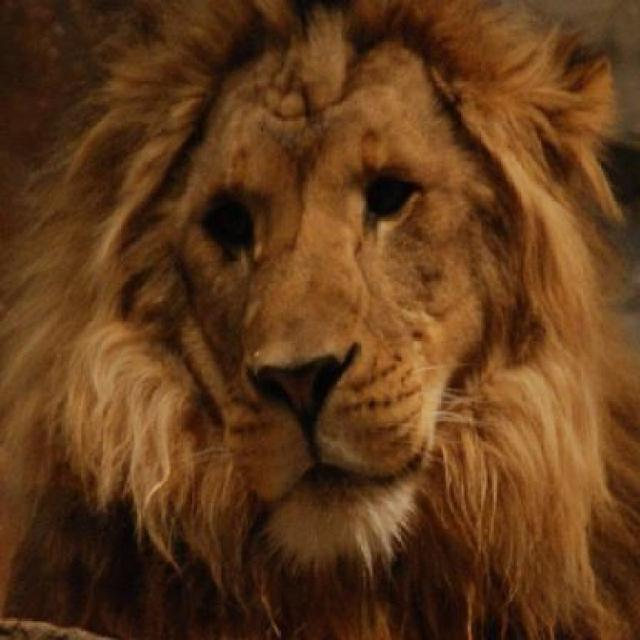Lion: (14, 6, 618, 639)
